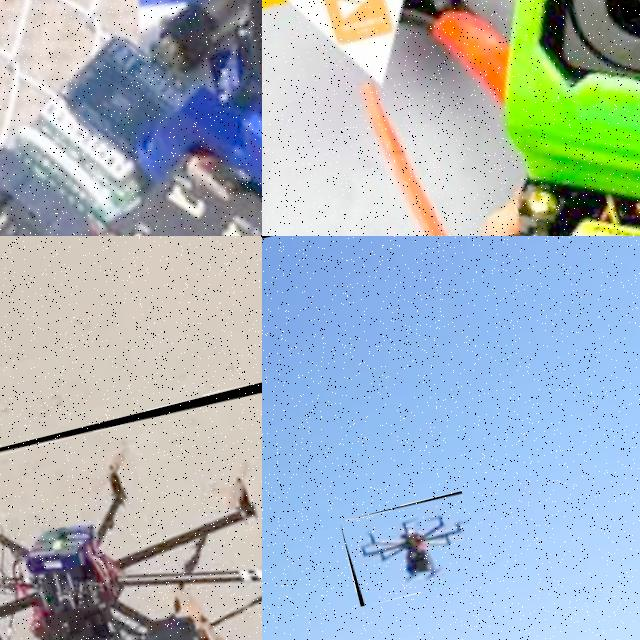drone: (262, 0, 640, 236), (0, 380, 262, 640), (0, 0, 262, 236), (339, 491, 483, 606)
